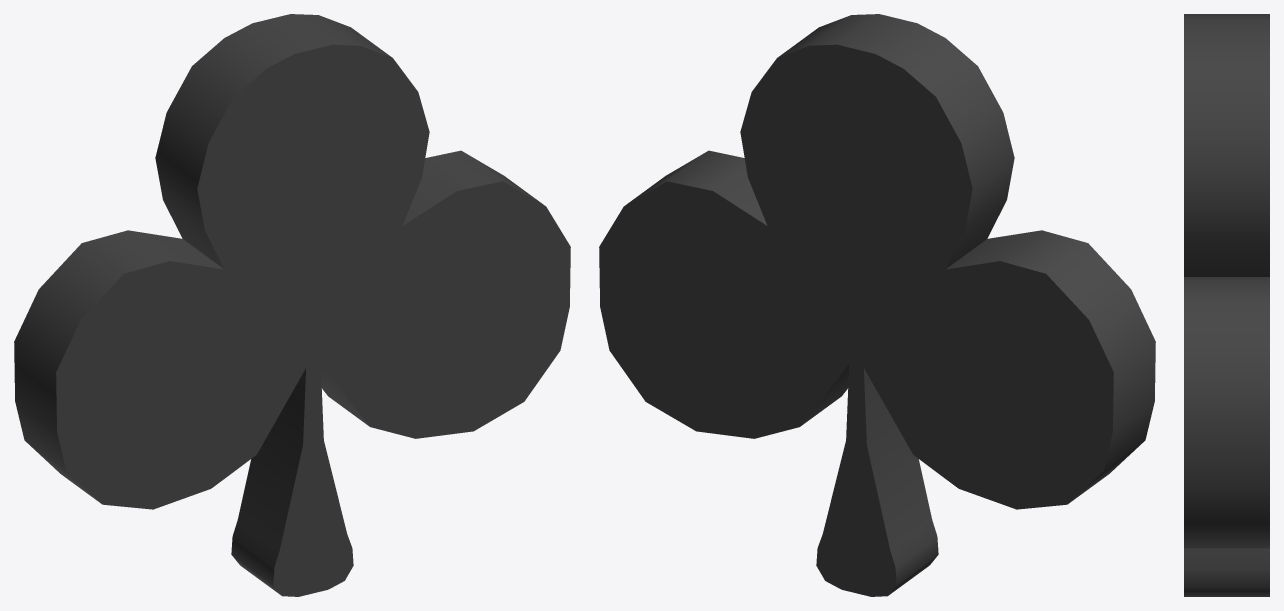
Rendered from Clubs.fbx.
3 views of the same model, side by side, from view 1: azimuth 30°, elevation 25°; view 2: azimuth 150°, elevation 25°; view 3: azimuth 270°, elevation 25° (orthographic). The views are drawn at different scales.
Parts seen in each view (by area): view 1: Clubs; view 2: Clubs; view 3: Clubs.
Boxes of the visible parts, x1,y1,x2,y2 form: Clubs: (14, 14, 570, 596); Clubs: (599, 14, 1155, 596); Clubs: (1184, 14, 1269, 596).
Bounding box in the file's own units: 0.2585 × 0.2611 × 0.0365.
